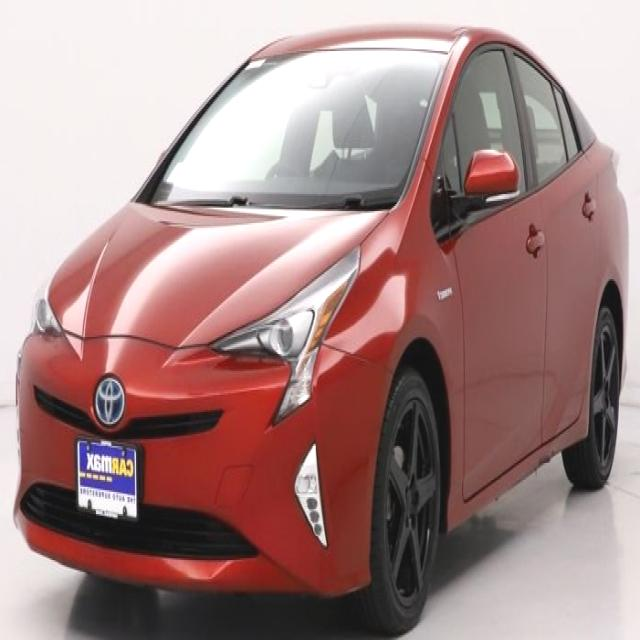red: (12, 24, 624, 570)
